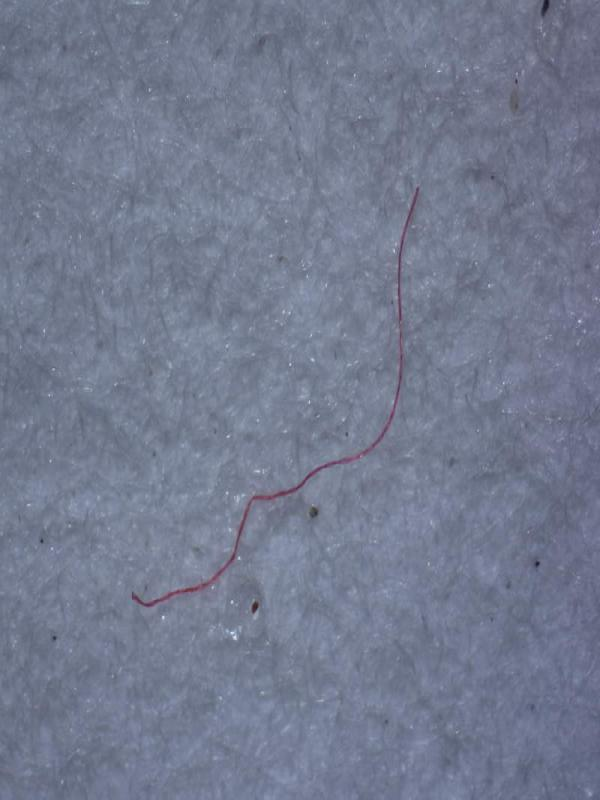microplastic: (130, 183, 420, 615)
